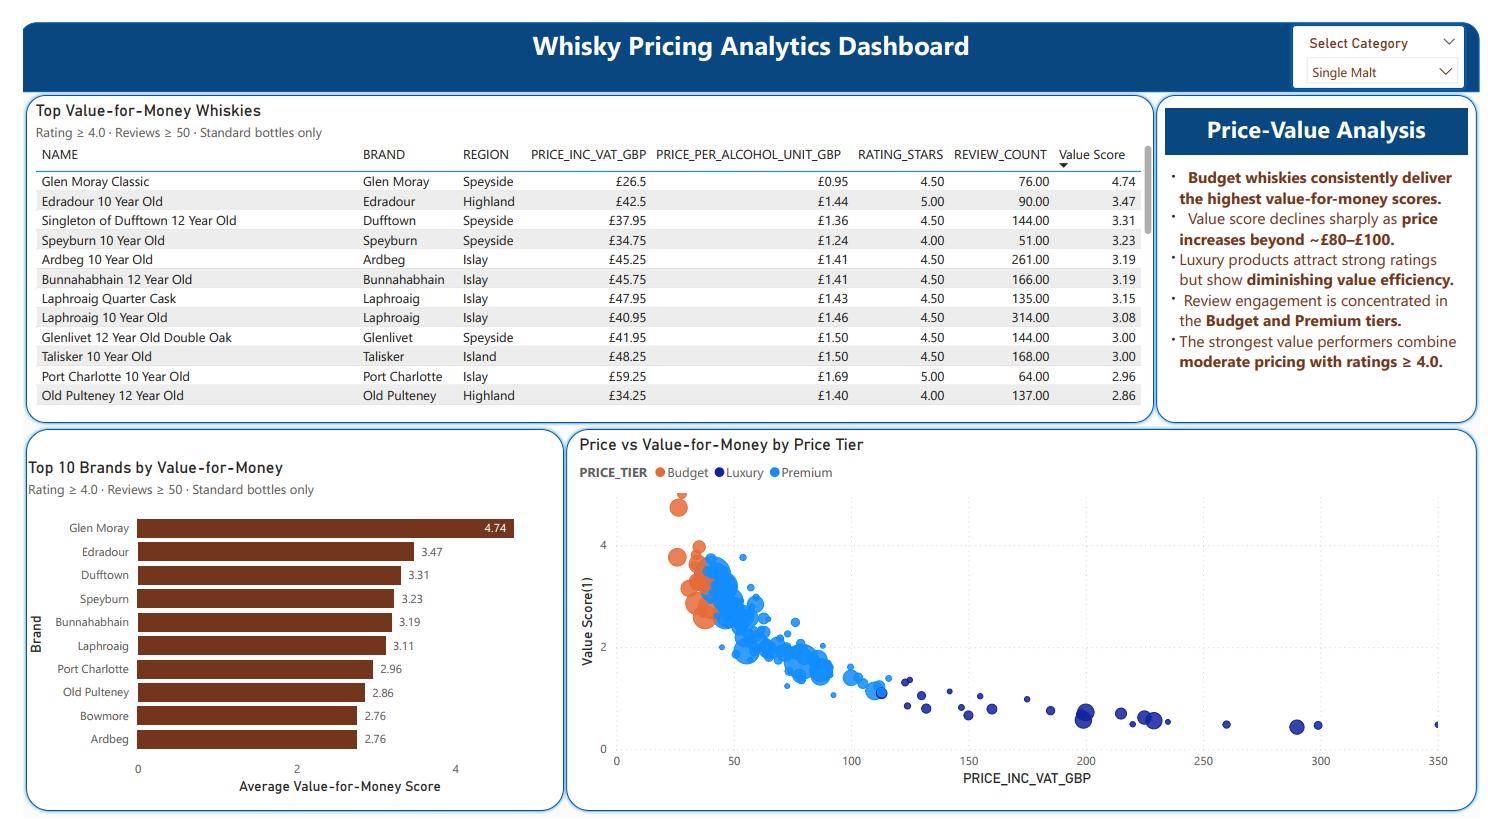

The dashboard page shown, as its layout file describes it:
{"tool":"powerbi","page":{"name":"Value, Discounts & Consumer Behavior","canvas":[1500,820],"ordinal":1},"visuals":[{"type":"shape","box":[-4,0,1504,64],"z":0},{"type":"textbox","box":[512,0,480,48],"z":1000},{"type":"shape","box":[556,416,944,400],"z":2000},{"type":"shape","box":[0,64,1168,352],"z":3000},{"type":"shape","box":[0,416,560,400],"z":4000},{"type":"tableEx","title":"Top Value-for-Money Whiskies","fields":{"Values":["VW_PRODUCT_LATEST.NAME","VW_PRODUCT_LATEST.BRAND","VW_PRODUCT_LATEST.REGION","VW_PRODUCT_LATEST.PRICE_INC_VAT_GBP","VW_PRODUCT_LATEST.PRICE_PER_ALCOHOL_UNIT_GBP","VW_PRODUCT_LATEST.RATING_STARS","VW_PRODUCT_LATEST.REVIEW_COUNT","_Measures.Value Score"]},"box":[8,80,1160,320],"z":5000},{"type":"clusteredBarChart","title":"Top 10 Brands by Value-for-Money","fields":{"Category":["VW_PRODUCT_LATEST.BRAND"],"Y":["_Measures.Avg Value Score"]},"box":[0,448,544,352],"z":6000},{"type":"scatterChart","title":"Price vs Value-for-Money by Price Tier","fields":{"X":["VW_PRODUCT_LATEST.PRICE_INC_VAT_GBP"],"Y":["VW_PRODUCT_LATEST.Value Score(1)"],"Size":["Sum(VW_PRODUCT_LATEST.REVIEW_COUNT)"],"Series":["VW_PRODUCT_LATEST.PRICE_TIER"]},"box":[568,424,904,368],"z":7000},{"type":"shape","box":[1164,64,336,352],"z":8000},{"type":"textbox","box":[1176,80,312,48],"z":8001},{"type":"textbox","box":[1176,128,312,272],"z":8002}]}

Visuals, with their boxes in screenshot pixels (x1, y1, x2, y2), scaled from the page's 1500x820 canvas onto the 1499x838 screenshot:
shape: {"x1": 0, "y1": 0, "x2": 1498, "y2": 65}
textbox: {"x1": 512, "y1": 0, "x2": 991, "y2": 49}
shape: {"x1": 556, "y1": 425, "x2": 1498, "y2": 834}
shape: {"x1": 0, "y1": 65, "x2": 1167, "y2": 425}
shape: {"x1": 0, "y1": 425, "x2": 560, "y2": 834}
"Top Value-for-Money Whiskies" tableEx: {"x1": 8, "y1": 82, "x2": 1167, "y2": 409}
"Top 10 Brands by Value-for-Money" clusteredBarChart: {"x1": 0, "y1": 458, "x2": 544, "y2": 818}
"Price vs Value-for-Money by Price Tier" scatterChart: {"x1": 568, "y1": 433, "x2": 1471, "y2": 809}
shape: {"x1": 1163, "y1": 65, "x2": 1498, "y2": 425}
textbox: {"x1": 1175, "y1": 82, "x2": 1487, "y2": 131}
textbox: {"x1": 1175, "y1": 131, "x2": 1487, "y2": 409}
